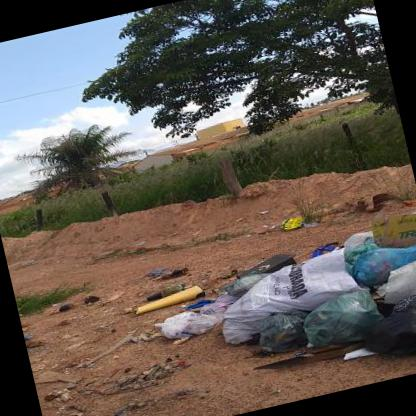lixo: (127, 217, 415, 415)
